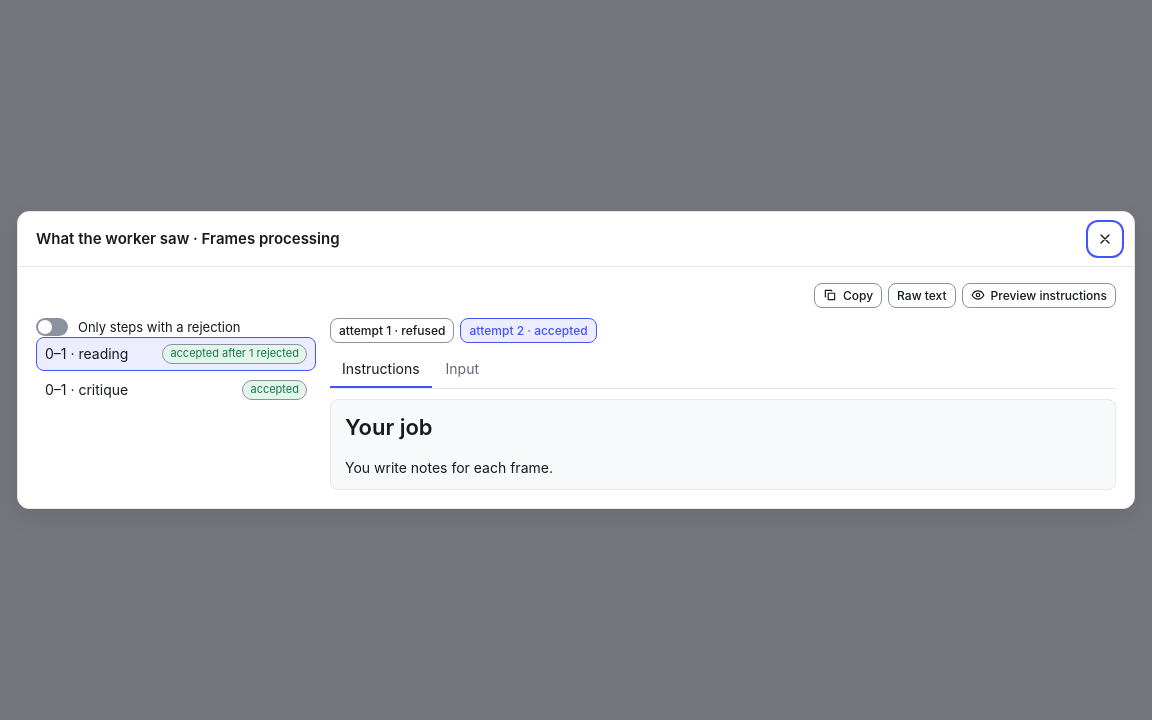
Test: WorkerView › switches to an earlier attempt and shows why it was refused
The image size is (1152, 720).
Click the button "attempt 1 · refused".
click(392, 331)  # box [330,318,454,344]
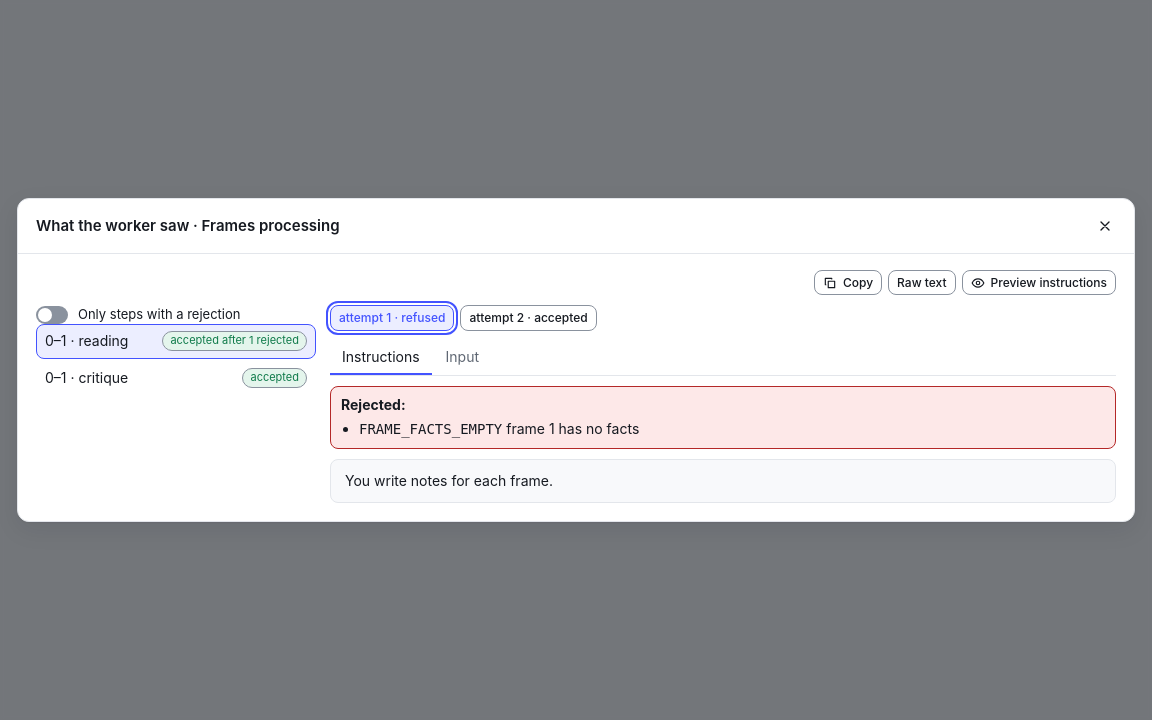
Check: the element named "why this attempt was rejected" shows "FRAME_FACTS_EMPTY frame 1 has no facts", box [330,386,1116,449]
